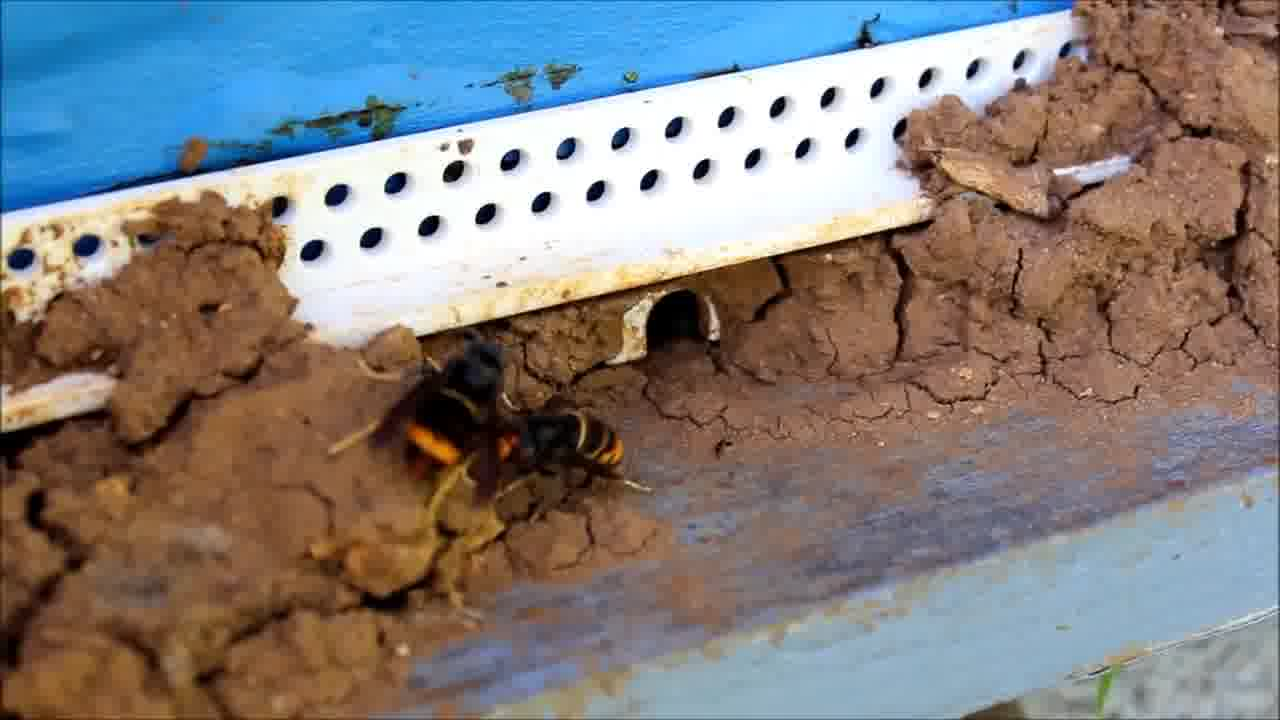hornet: (382, 347, 518, 492), (474, 398, 651, 485)
